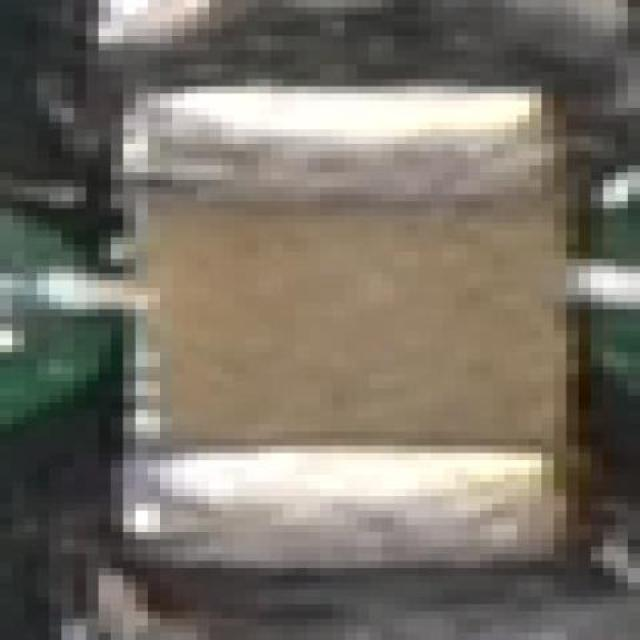Capacitor: (99, 83, 576, 577)
